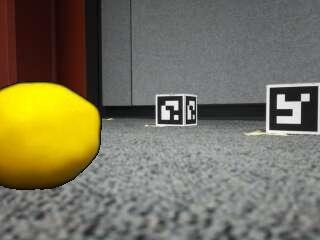lemon: (0, 82, 99, 190)
